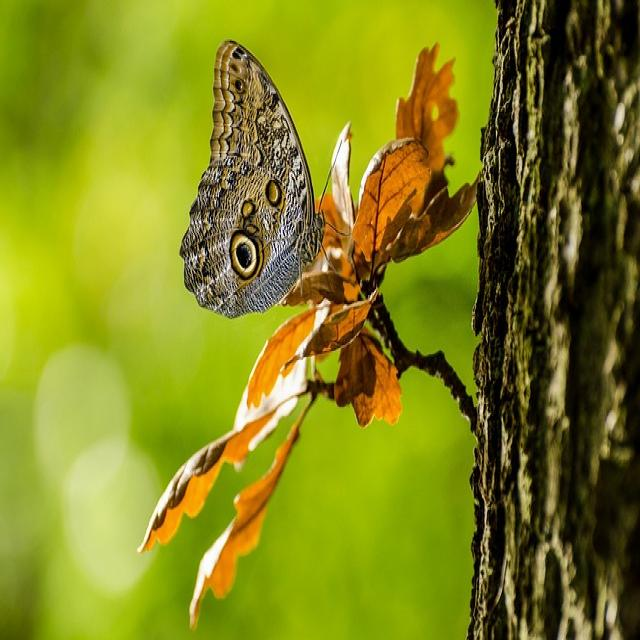butterfly: (180, 42, 324, 317)
